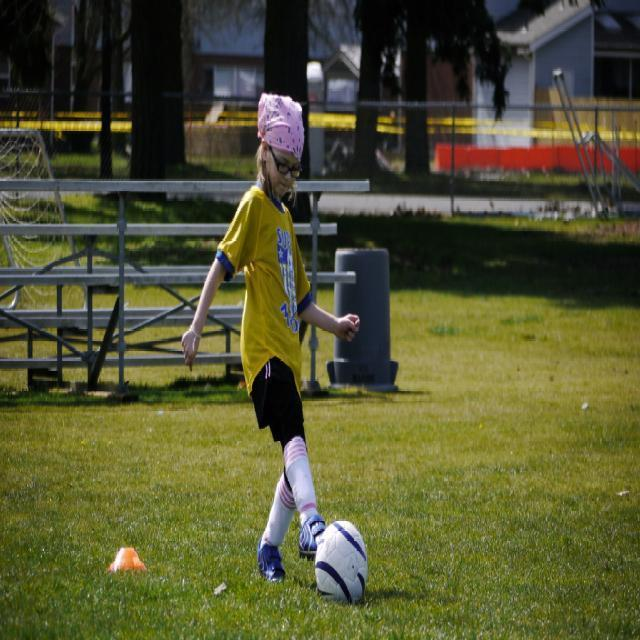ball: (316, 520, 367, 601)
